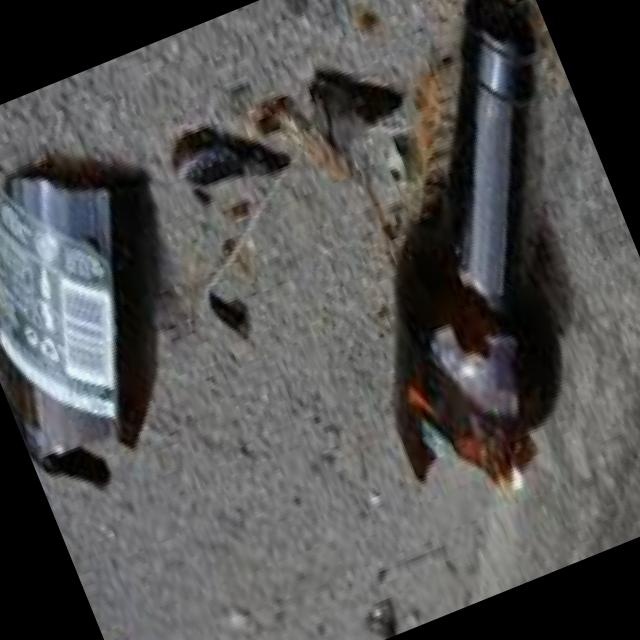PecahanKaca: (255, 0, 640, 528)
